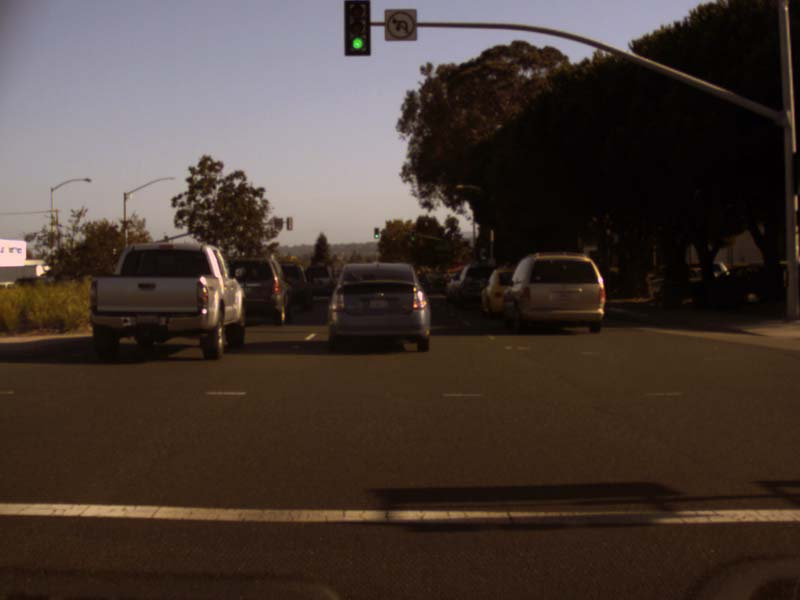Green: (480, 249, 486, 260), (373, 228, 379, 238), (410, 231, 414, 240)
